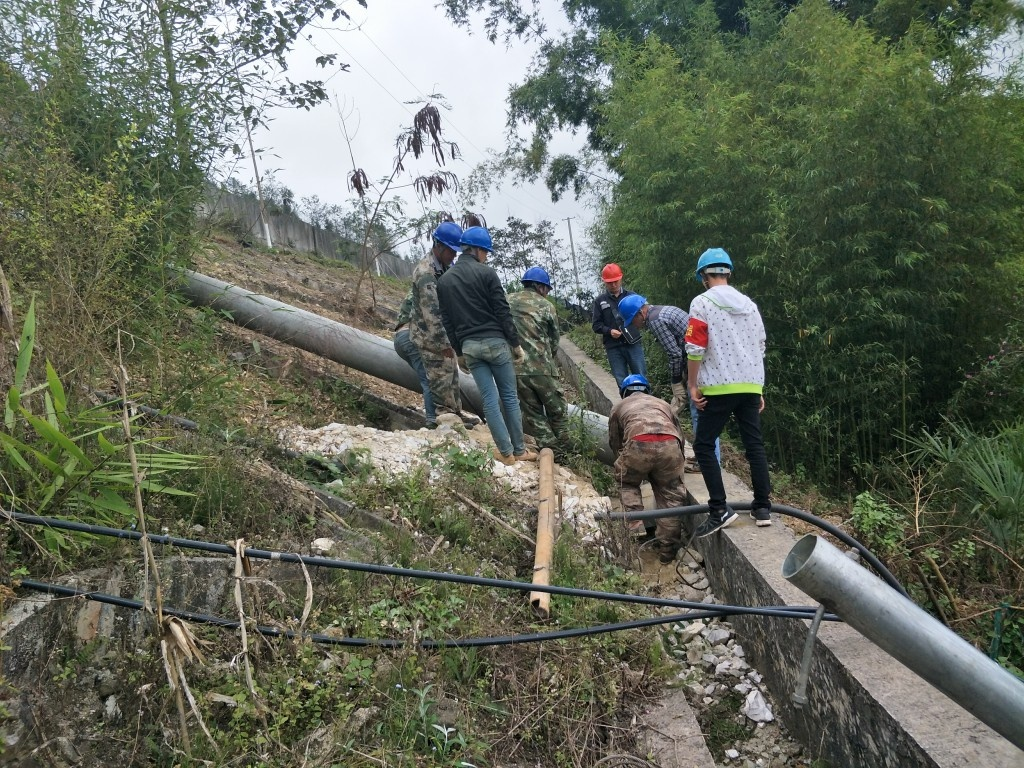blue: (694, 245, 733, 288), (430, 221, 462, 264), (615, 293, 650, 329), (459, 226, 493, 260), (518, 265, 552, 297), (619, 371, 647, 398)
red: (599, 262, 623, 291)
